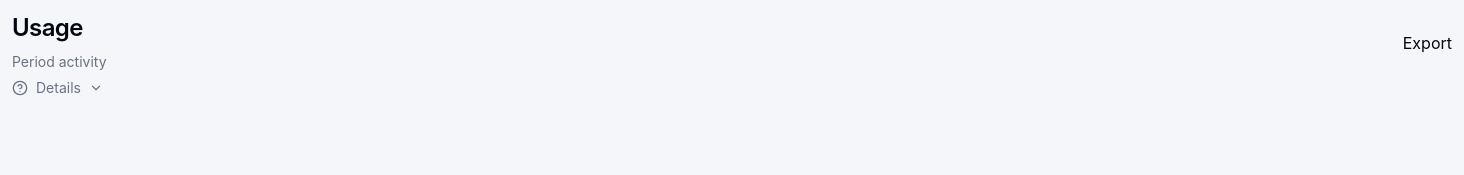
Scenario: keeps actions visible and secondary help discoverable
Expected: the heading "Usage" is shown, left=12, top=13, right=83, bottom=42
Expected: the button "Export" is shown, left=1403, top=31, right=1452, bottom=55
Click the heading "Details" at {"x": 58, "y": 88}, box left=12, top=74, right=103, bottom=102
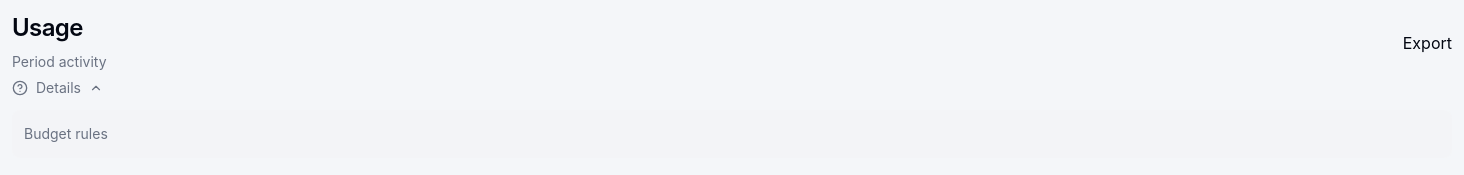
Expected: the text "Budget rules" is shown, left=12, top=110, right=1452, bottom=158
